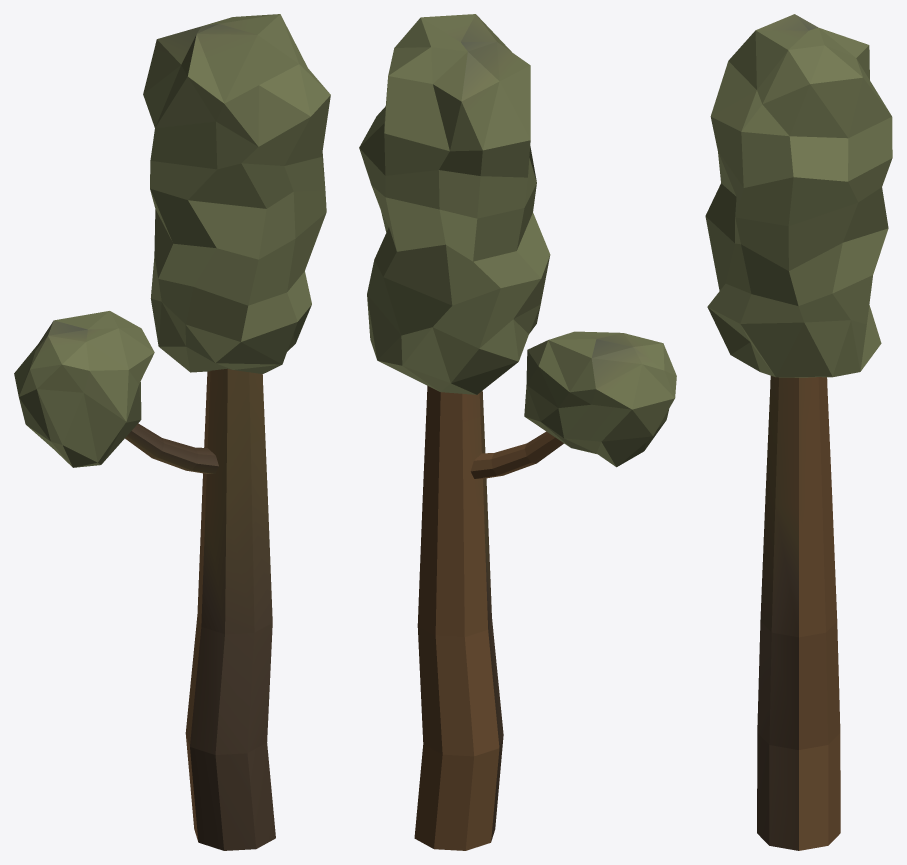
The model's file is Tree1_Summer.fbx.
3 renders of one model, left to right at view 1: azimuth 30°, elevation 25°; view 2: azimuth 150°, elevation 25°; view 3: azimuth 270°, elevation 25°, orthographic.
Parts seen in each view (by area): view 1: Tree2.002; view 2: Tree2.002; view 3: Tree2.002.
Boxes of the visible parts, left/top/right/bottom form: Tree2.002: left=14, top=14, right=330, bottom=850; Tree2.002: left=359, top=14, right=676, bottom=850; Tree2.002: left=705, top=14, right=892, bottom=850.
Bounding box in the file's own units: 330 × 849 × 179.
